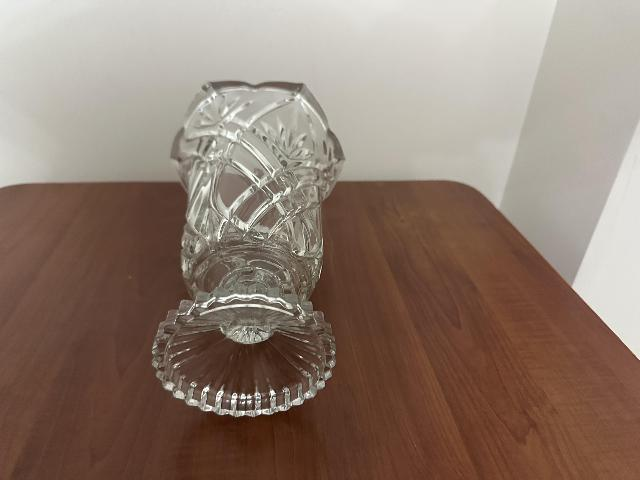Cam: (163, 84, 340, 406)
